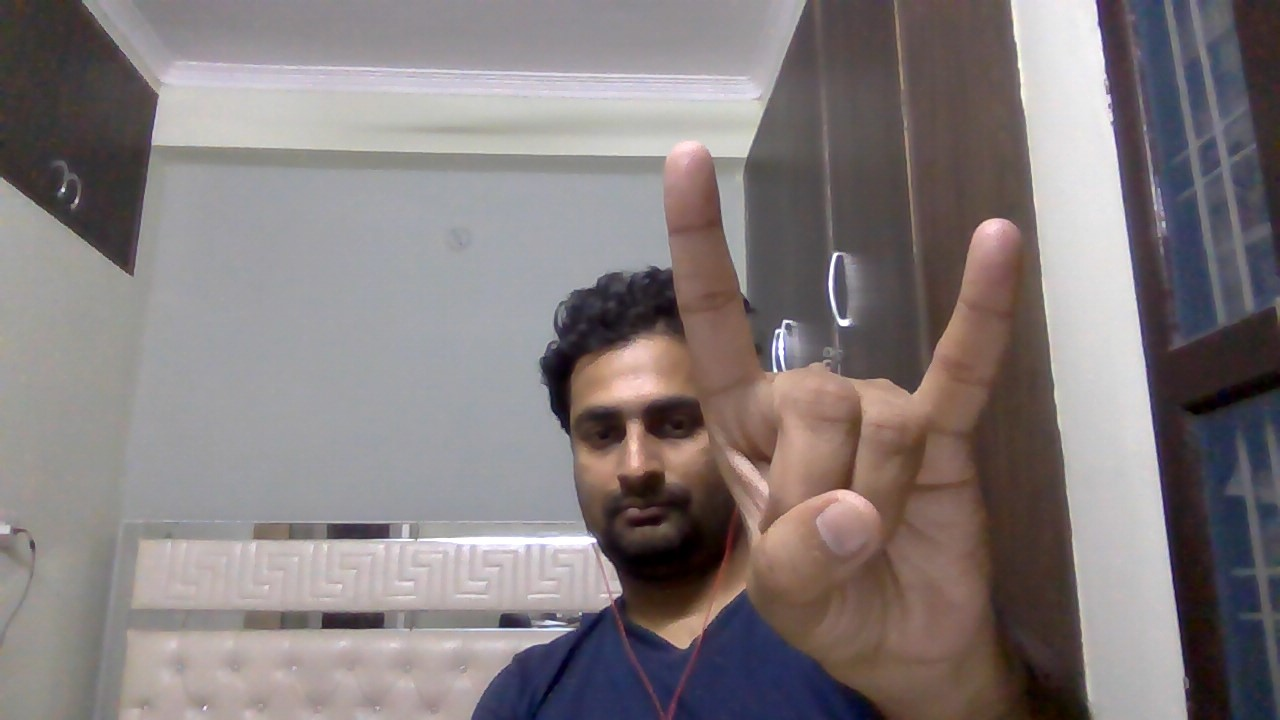Select All: (646, 135, 1044, 688)
